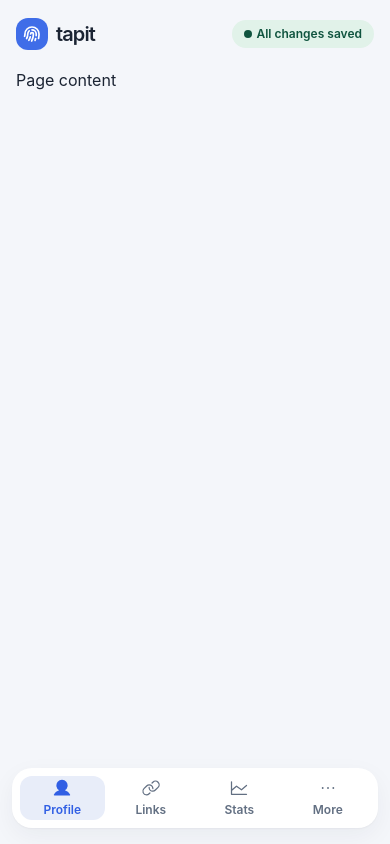
Test case: WorkspaceChrome mobile navigation › keeps the More sheet open and reports a failed sign-out
The image size is (390, 844).
Step 1. Click the button "More" → coordinates (328, 798), box [286,776,370,820]
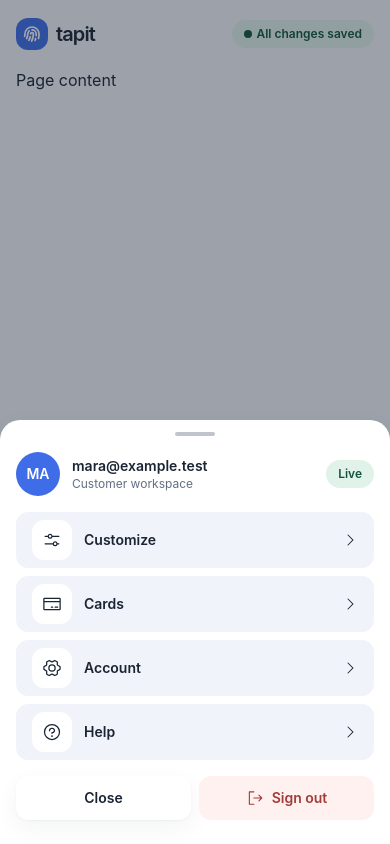
Step 2. Click the button "Sign out" → coordinates (286, 798), box [199,776,374,820]
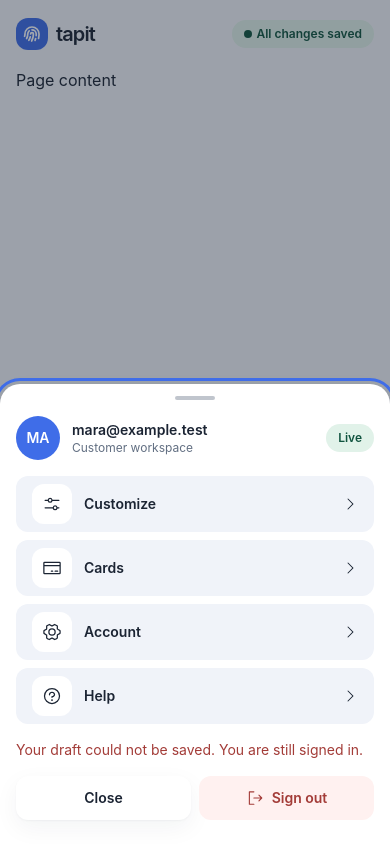
Now the dialog named "More" is shown, box [0,384,389,843]
Now the message reads "Your draft could not be saved. You are still signed in.", box [16,741,363,758]
